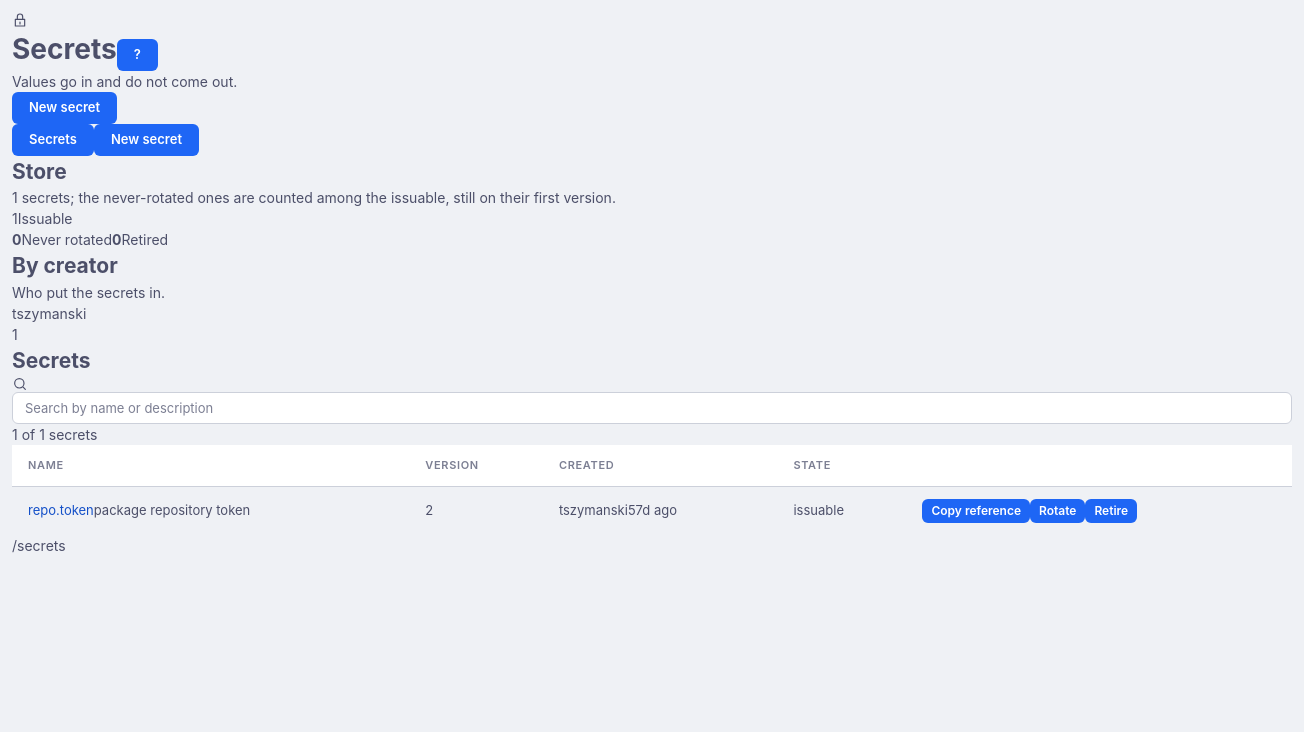
it: putting a value in › hides the value while it is typed, and prints it nowhere after
Click the button with test id "new-secret" at (65, 108), box [12, 92, 117, 124]
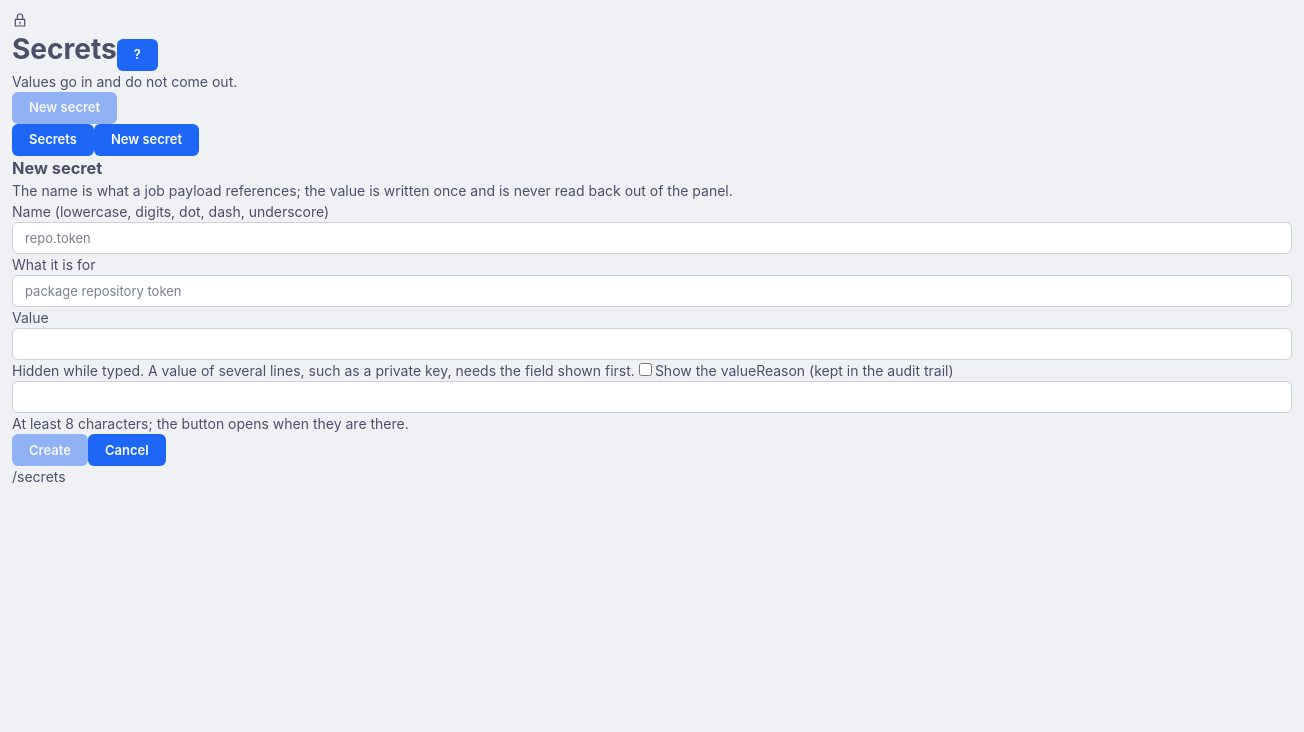
Expected: the field with test id "secret-name" is shown, [12, 222, 1292, 254]
Type "ghp-never-printed-0123456789" into the password field with test id "secret-value" at (652, 344), box [12, 328, 1292, 360]
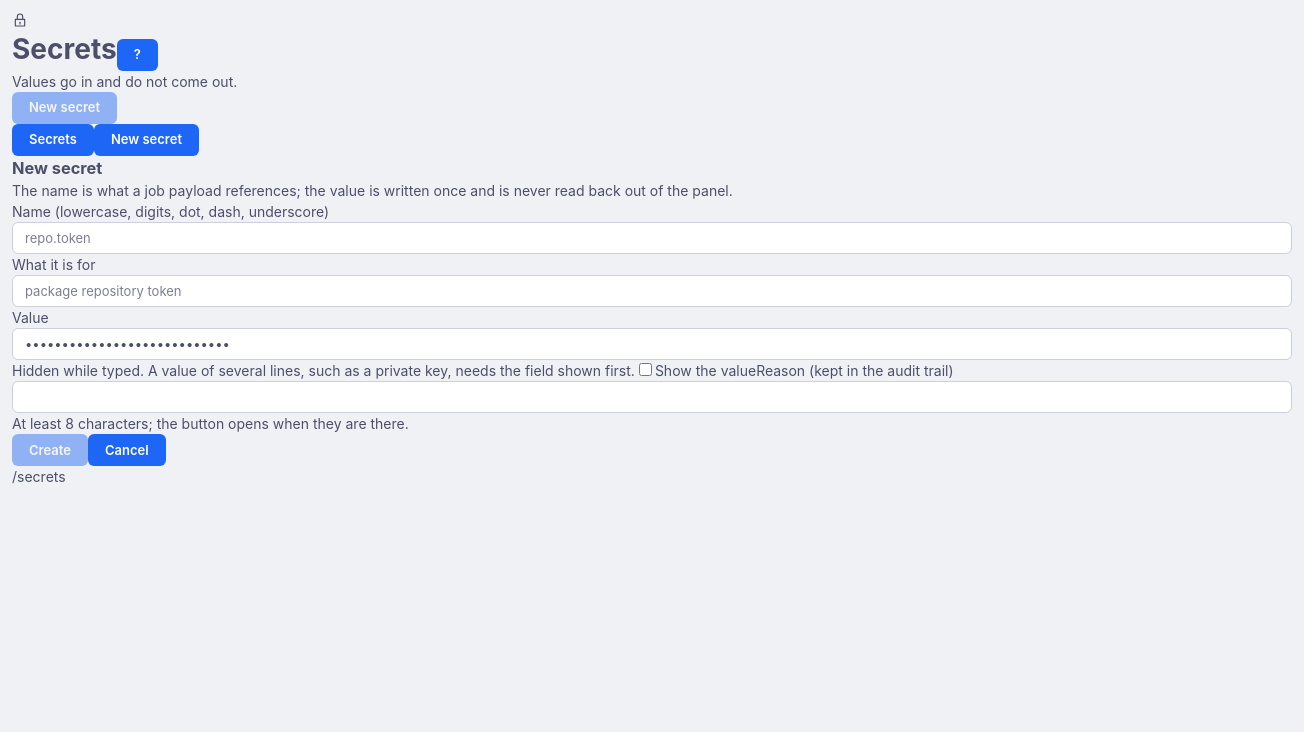
Type "smtp.password" into the field with test id "secret-name" at (652, 238), box [12, 222, 1292, 254]
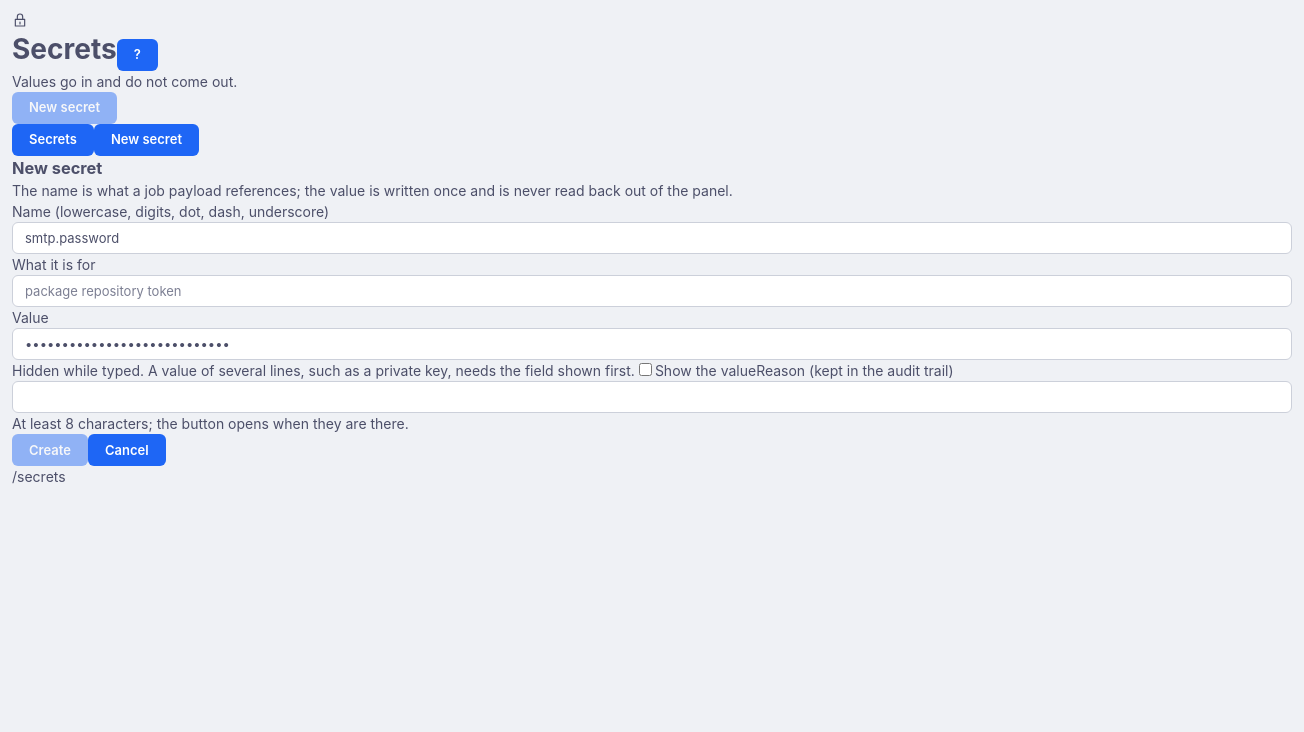
Type "the mail relay was re-keyed" into the field with test id "secret-reason" at (652, 397), box [12, 381, 1292, 413]
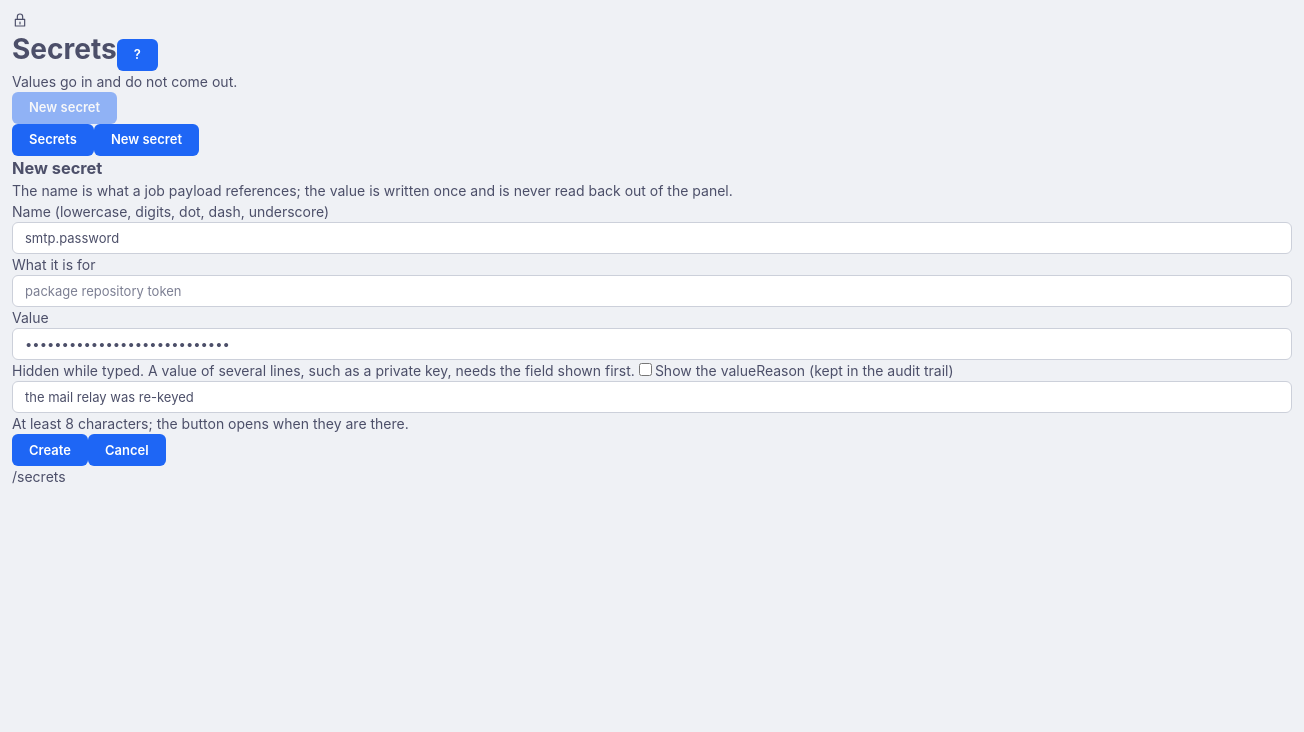
Click the button with test id "secret-create" at (50, 450), box [12, 434, 88, 466]
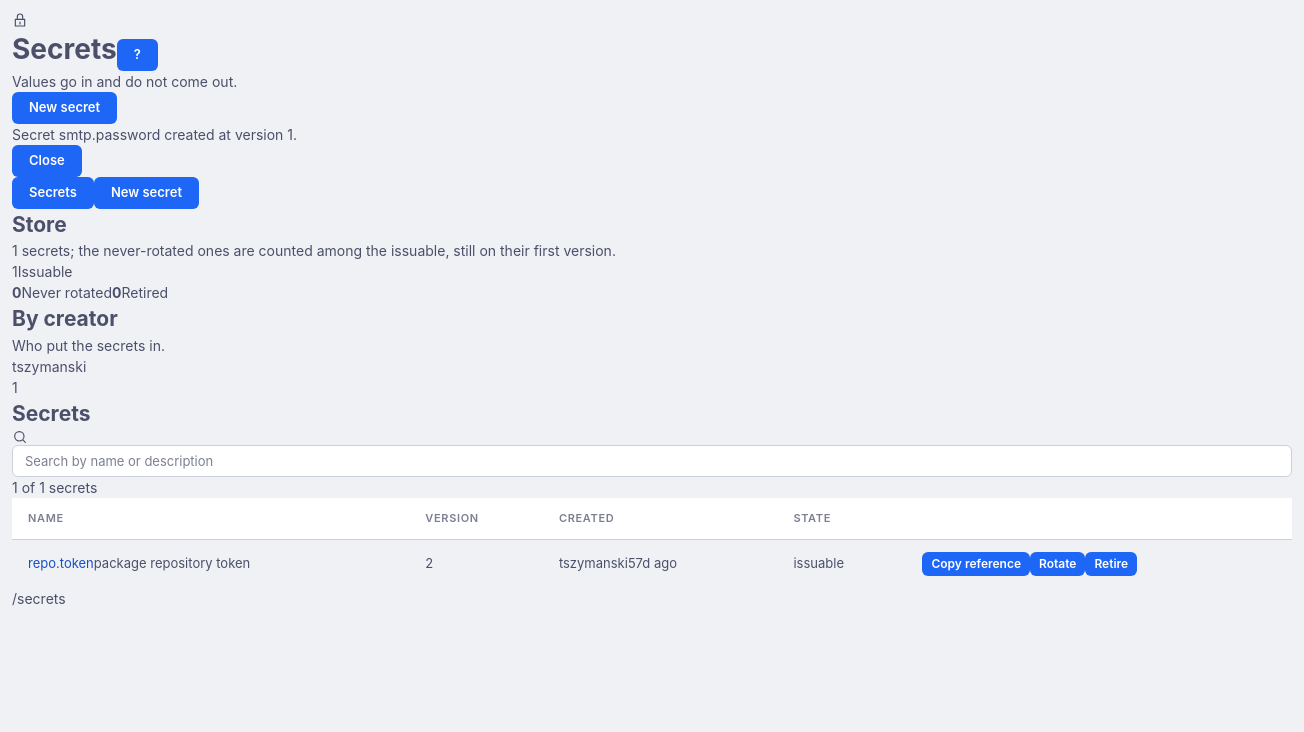
Expected: the text with test id "secrets-notice" shows "smtp.password", [12, 126, 297, 143]
